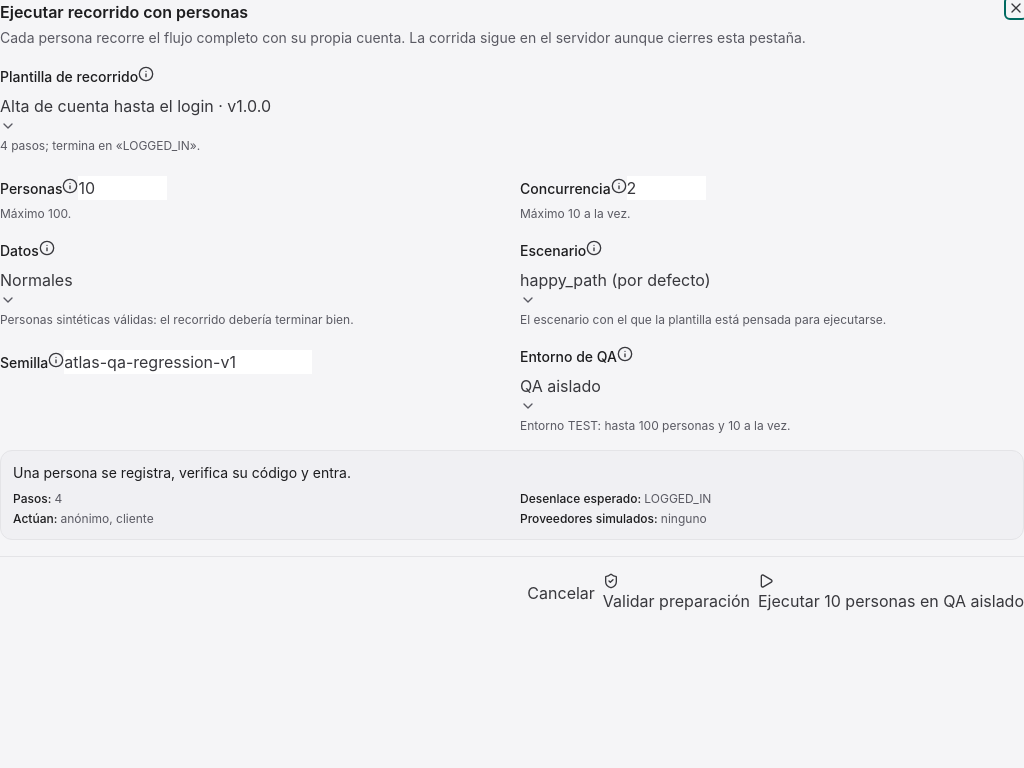
Scenario: RunLaunchDialog · UI/contrato con respuestas simuladas del contrato QA › enseña cada bloqueo con su mensaje y deja Ejecutar deshabilitado
Expected: the number field labelled "Personas" is shown, [78,176,168,200]
What coordinates should you click on to do the following:
click the button "Validar preparación"
I would click on:
 (676, 593)
Its box is [603,573,750,613].
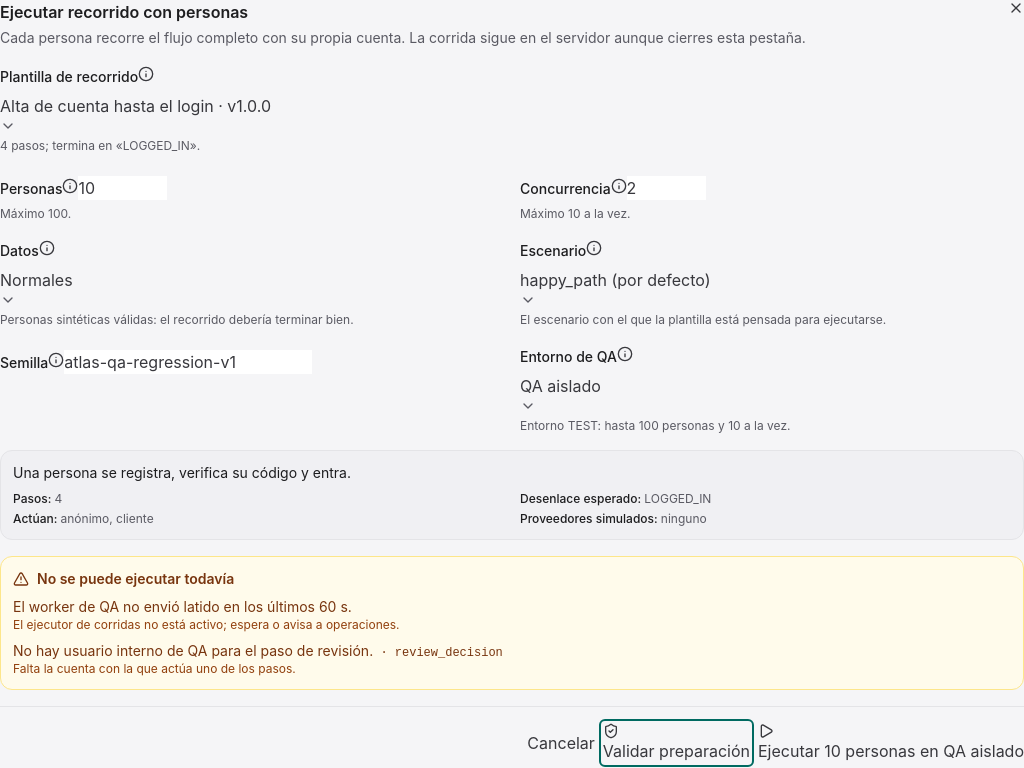
Expected: the text "El worker de QA no envió latido en los últimos 60 s." is shown, [13,598,352,615]
Expected: the text "No hay usuario interno de QA" is shown, [13,642,373,659]
Expected: the text "· review_decision" is shown, [373,646,503,660]
